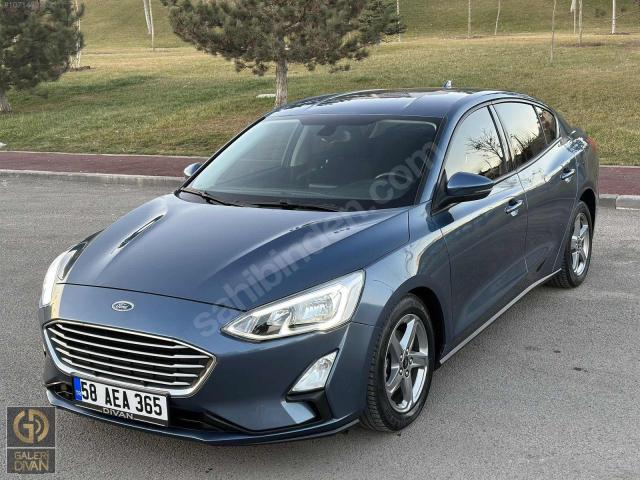plaka: (74, 378, 168, 425)
